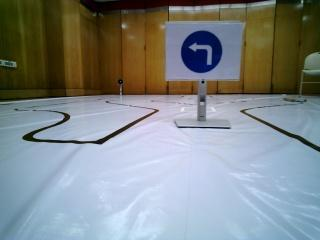left: (165, 22, 242, 80)
